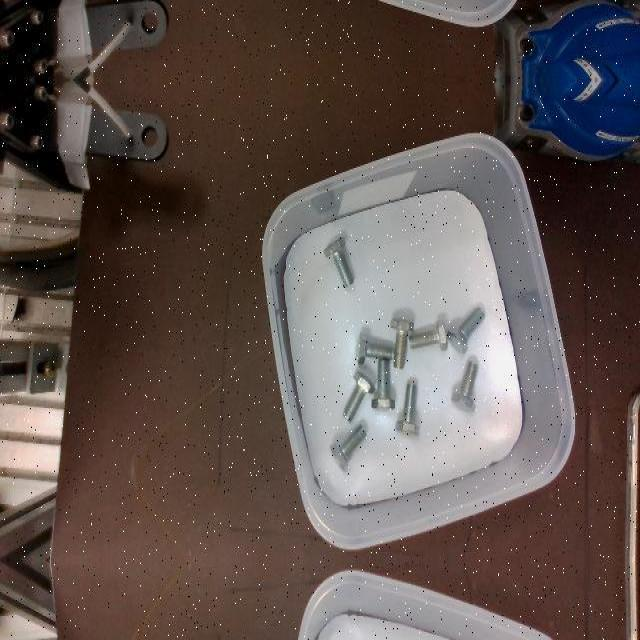screw: (447, 306, 485, 354), (342, 370, 375, 422), (330, 425, 367, 471), (383, 317, 414, 367), (323, 236, 354, 286), (450, 360, 478, 410), (395, 383, 420, 437), (409, 319, 448, 351), (370, 359, 394, 409), (355, 332, 392, 364)
